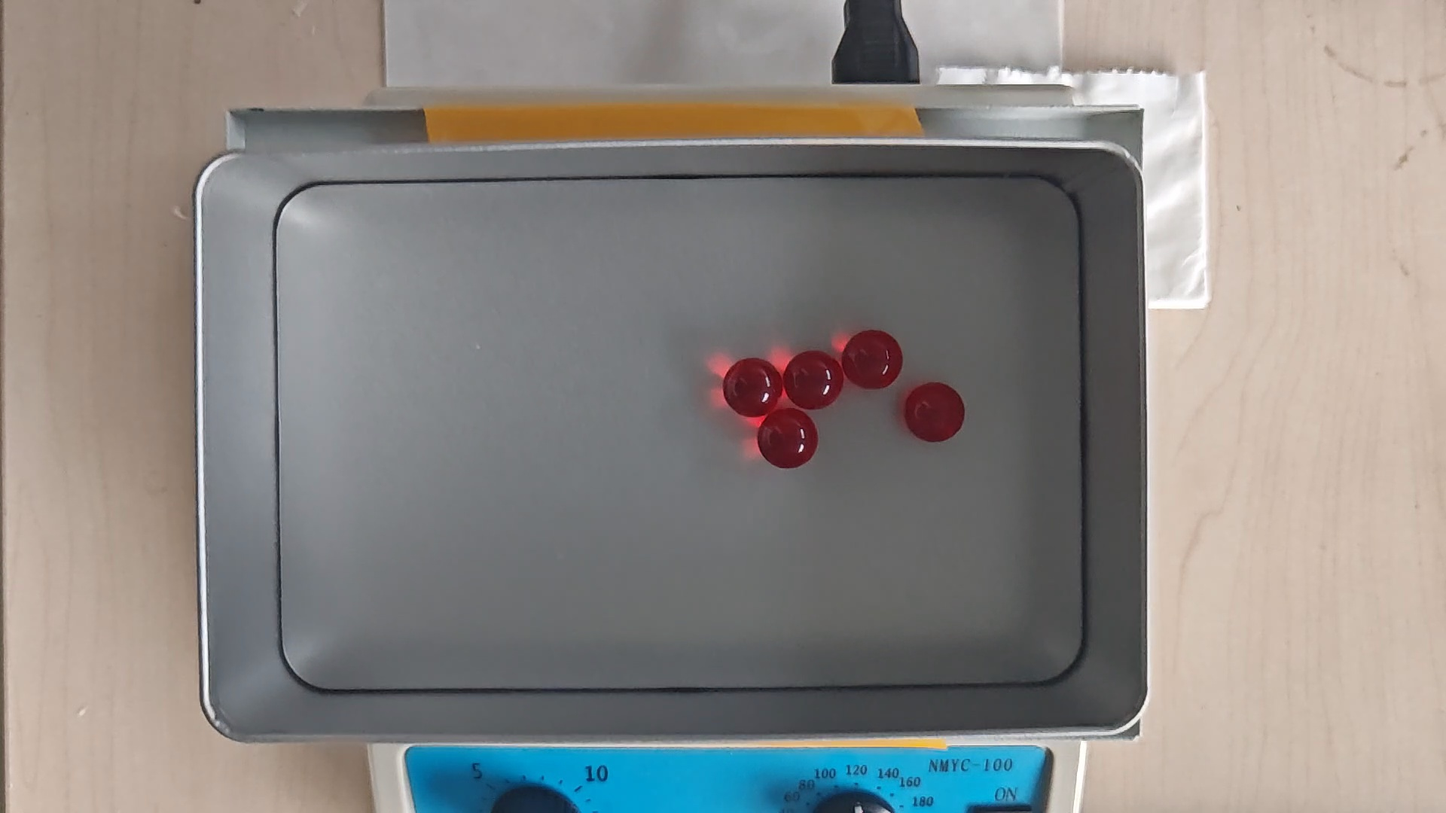ball: (901, 380, 965, 443), (723, 356, 783, 419), (844, 327, 902, 392), (786, 351, 844, 411), (760, 411, 817, 468)
container: (271, 175, 1083, 687)
